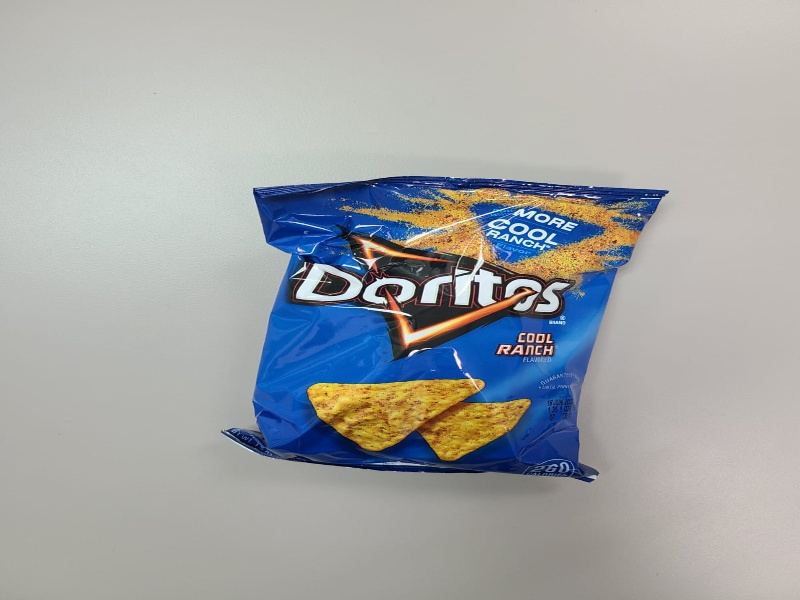doritos: (222, 172, 698, 502)
